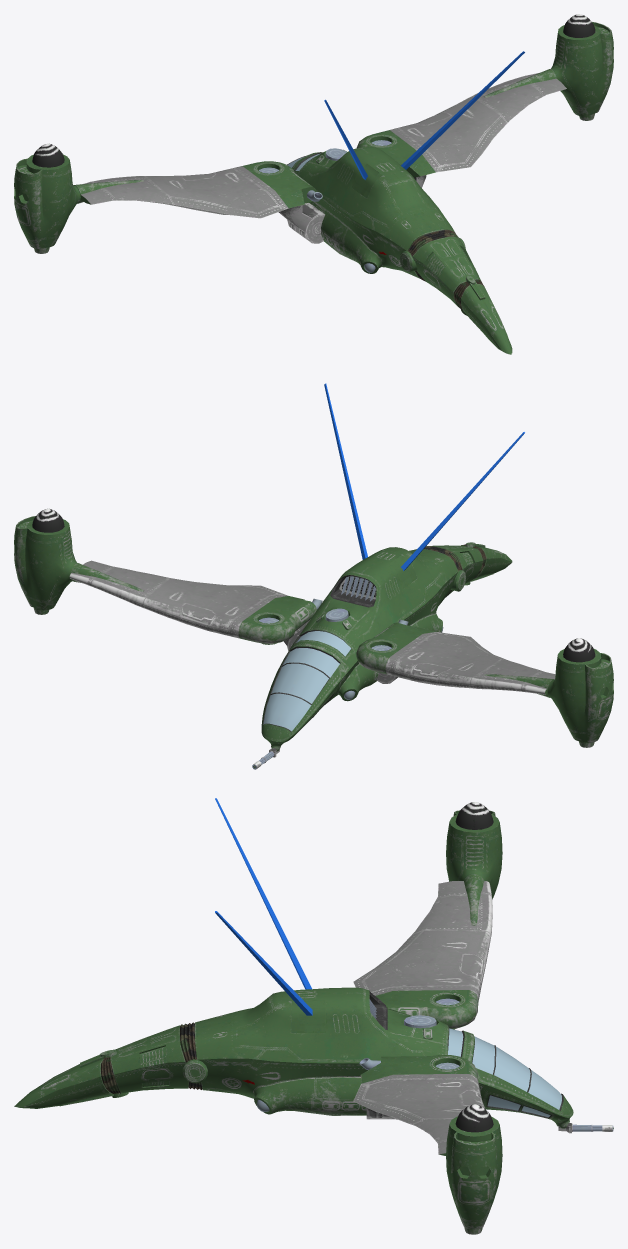
File: vtol.glb
3 renders of one model, top to bottom at view 1: azimuth 30°, elevation 25°; view 2: azimuth 150°, elevation 25°; view 3: azimuth 270°, elevation 25°, orthographic. The views are drawn at different scales.
Parts seen in each view (by area): view 1: body, L_wing, R_wing, R_ant; view 2: body, R_wing, L_wing, R_ant, L_ant; view 3: body, L_wing, R_wing, L_ant, R_ant.
Part boxes in pixels (<box>): body: <box>287,146,512,354</box>; L_wing: <box>14,143,324,253</box>; R_wing: <box>356,14,613,187</box>; R_ant: <box>401,51,524,169</box>; body: <box>261,542,512,748</box>; R_wing: <box>14,508,322,651</box>; L_wing: <box>356,619,613,747</box>; R_ant: <box>324,383,367,559</box>; L_ant: <box>401,432,524,570</box>; body: <box>14,987,573,1126</box>; L_wing: <box>353,802,502,1029</box>; R_wing: <box>353,1055,502,1234</box>; L_ant: <box>215,798,311,989</box>; R_ant: <box>215,911,312,1015</box>.
Size of the model in its own units: 39.04 by 14.9 by 29.24.
Materials: 1 (1 with a texture image).
